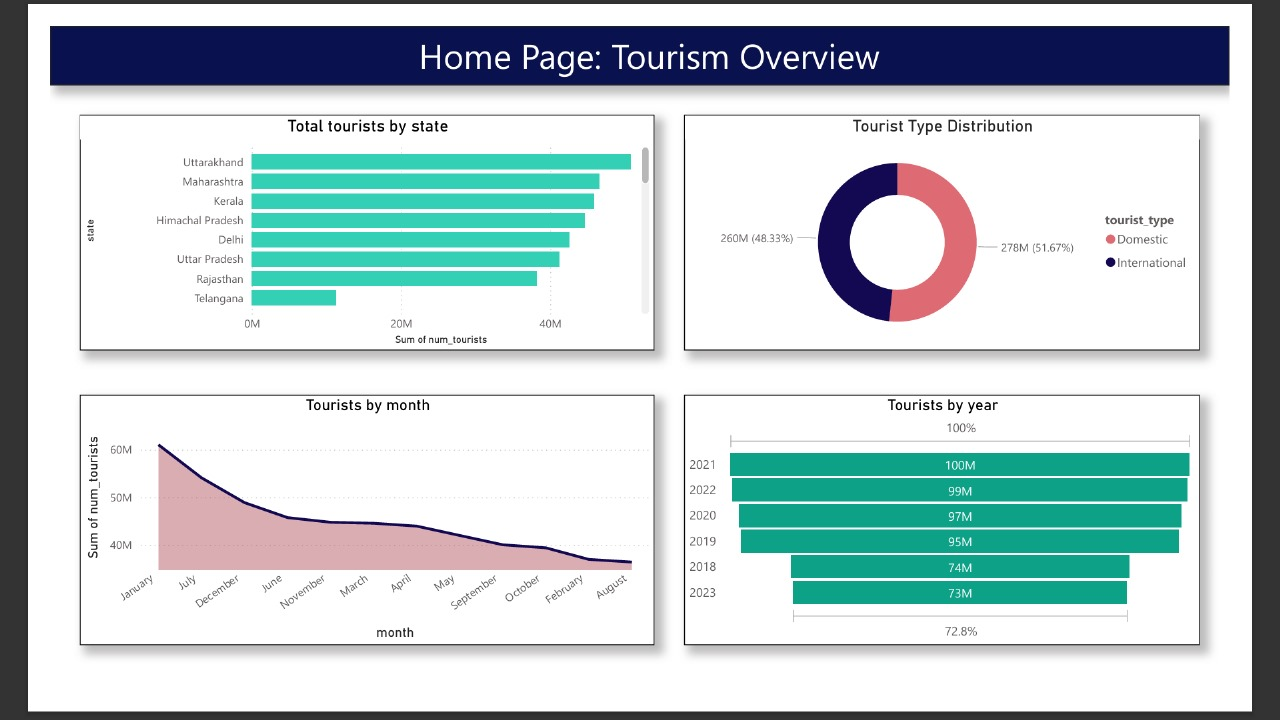

What the dashboard file says about the page in this screenshot:
{"tool":"powerbi","page":{"name":"Page 1","canvas":[1280,720],"ordinal":0},"visuals":[{"type":"barChart","title":"Total tourists by state","fields":{"Category":["indian_tourism_synthetic_data.state"],"Y":["Sum(indian_tourism_synthetic_data.num_tourists)"]},"box":[32,96,624,256],"z":0},{"type":"areaChart","title":"Tourists by month","fields":{"Category":["indian_tourism_synthetic_data.month"],"Y":["Sum(indian_tourism_synthetic_data.num_tourists)"]},"box":[32,400,624,272],"z":1000},{"type":"donutChart","title":"Tourist Type Distribution","fields":{"Category":["indian_tourism_synthetic_data.tourist_type"],"Y":["Sum(indian_tourism_synthetic_data.num_tourists)"]},"box":[688,96,560,256],"z":2000},{"type":"funnel","title":"Tourists by year","fields":{"Y":["Sum(indian_tourism_synthetic_data.num_tourists)"],"Category":["indian_tourism_synthetic_data.year"]},"box":[688,400,560,272],"z":3000},{"type":"textbox","box":[0,0,1280,64],"z":4000}]}

Visuals, with their boxes in screenshot pixels (x1, y1, x2, y2), scaled from the page's 1280x720 canvas onto the 1280x720 screenshot:
"Total tourists by state" barChart: bbox(32, 96, 656, 352)
"Tourists by month" areaChart: bbox(32, 400, 656, 672)
"Tourist Type Distribution" donutChart: bbox(688, 96, 1248, 352)
"Tourists by year" funnel: bbox(688, 400, 1248, 672)
textbox: bbox(0, 0, 1279, 64)
